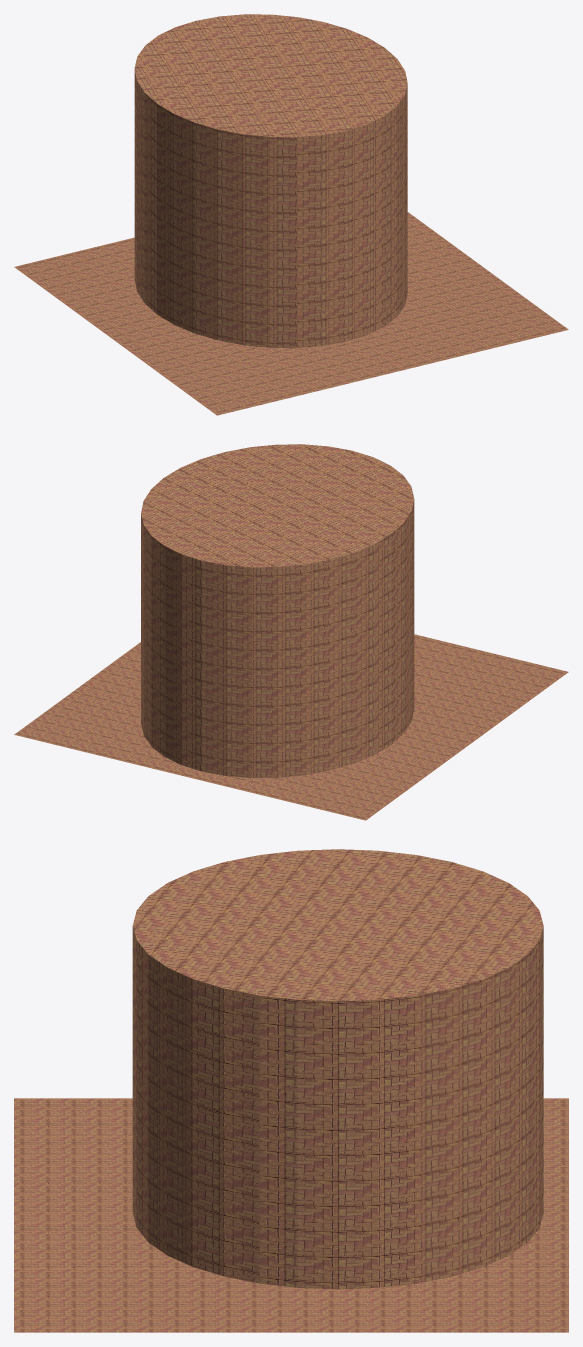
The model's file is map2.dae.
3 renders of one model, top to bottom at view 1: azimuth 30°, elevation 25°; view 2: azimuth 150°, elevation 25°; view 3: azimuth 270°, elevation 25°, orthographic. The views are drawn at different scales.
Visible parts, largest first — view 1: Cylinder; view 2: Cylinder; view 3: Cylinder.
Boxes of the visible parts, <box> form: Cylinder: <box>14,14,568,415</box>; Cylinder: <box>14,444,568,820</box>; Cylinder: <box>14,849,568,1332</box>.
Size of the model in its own units: 19.56 by 19.56 by 11.26.
1 material, 1 textured.
